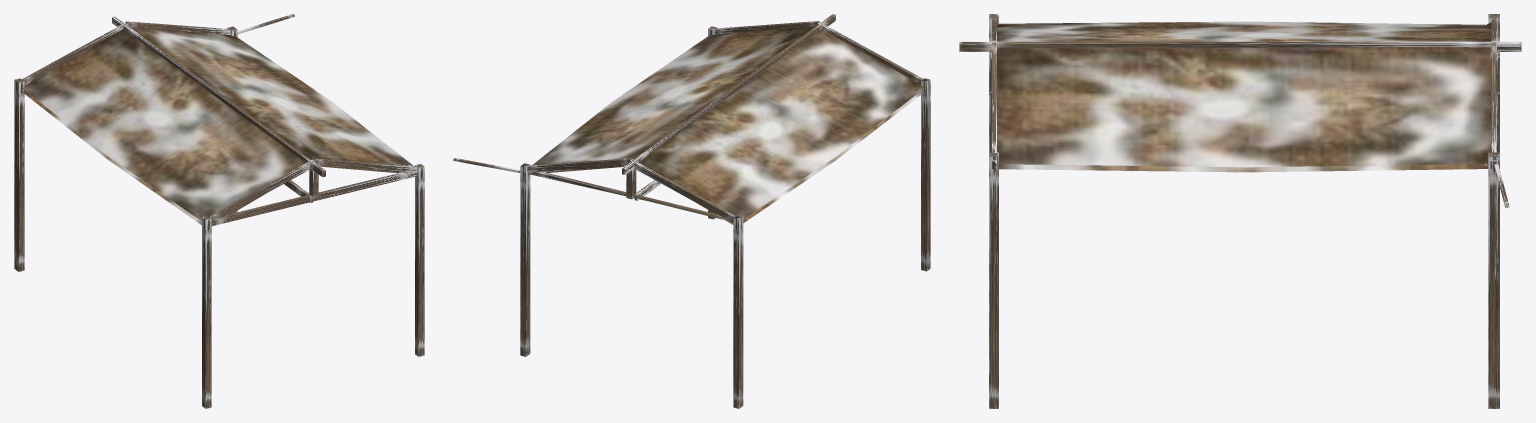
3 renders of one model, left to right at view 1: azimuth 30°, elevation 25°; view 2: azimuth 150°, elevation 25°; view 3: azimuth 270°, elevation 25°, orthographic. The views are drawn at different scales.
Parts seen in each view (by area): view 1: Box29; view 2: Box29; view 3: Box29.
Boxes of the visible parts, box(x1,y1,x2,y2) form: Box29: box(14, 14, 424, 408); Box29: box(453, 14, 930, 408); Box29: box(959, 14, 1521, 408).
Size of the model in its own units: 111 by 82.73 by 143.
